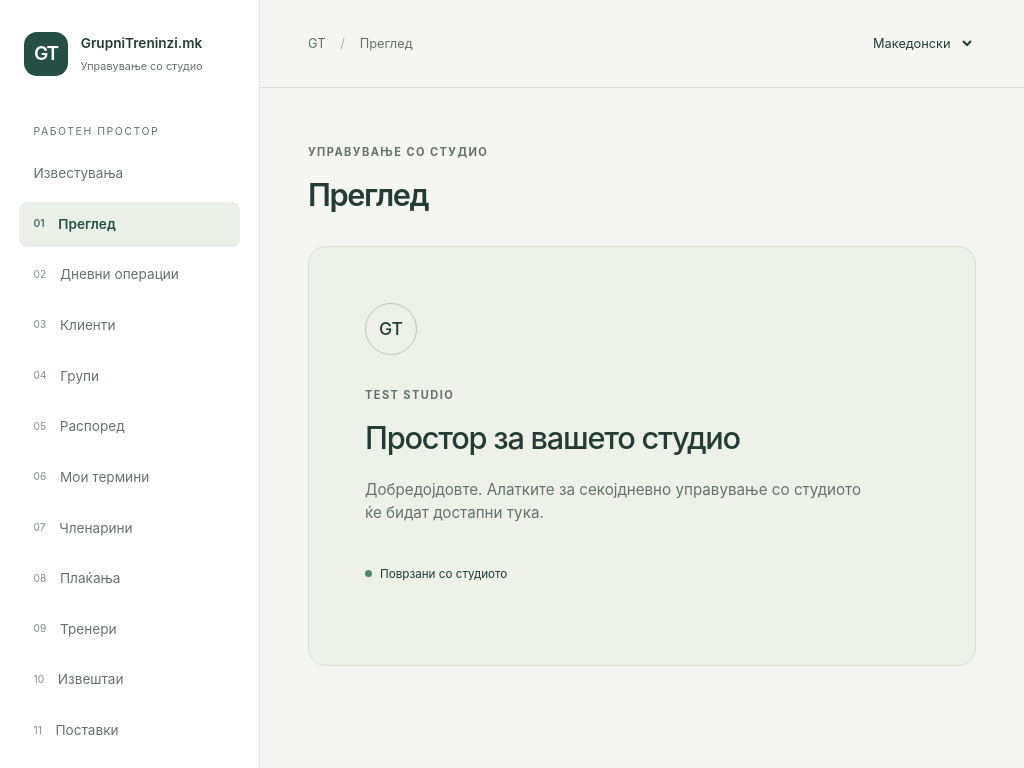
Scenario: studio foundation › renders only authorized studio context and placeholder navigation
The image size is (1024, 768).
Expected: the heading "Простор за вашето студио" is shown, top-left (365, 419), bottom-right (740, 456)
Click the link "08 Плаќања". click: {"x": 77, "y": 578}
box: top-left (34, 570), bottom-right (120, 586)
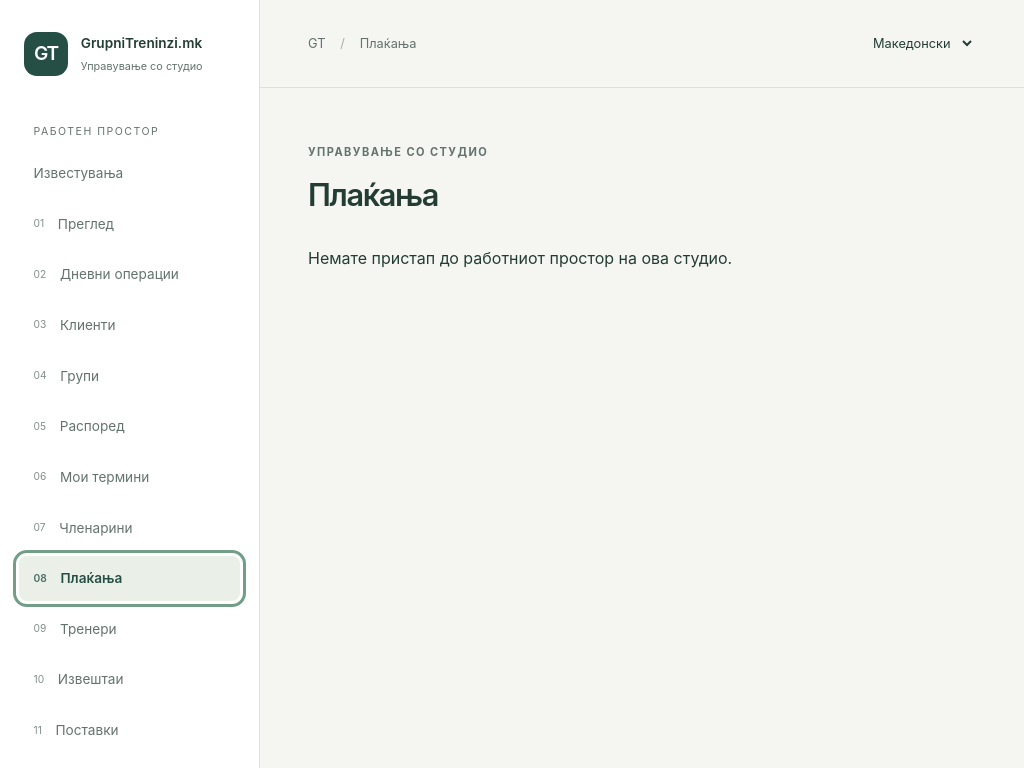
Expected: the text "Немате пристап до работниот простор на ова студио." is shown, top-left (308, 248), bottom-right (732, 268)
